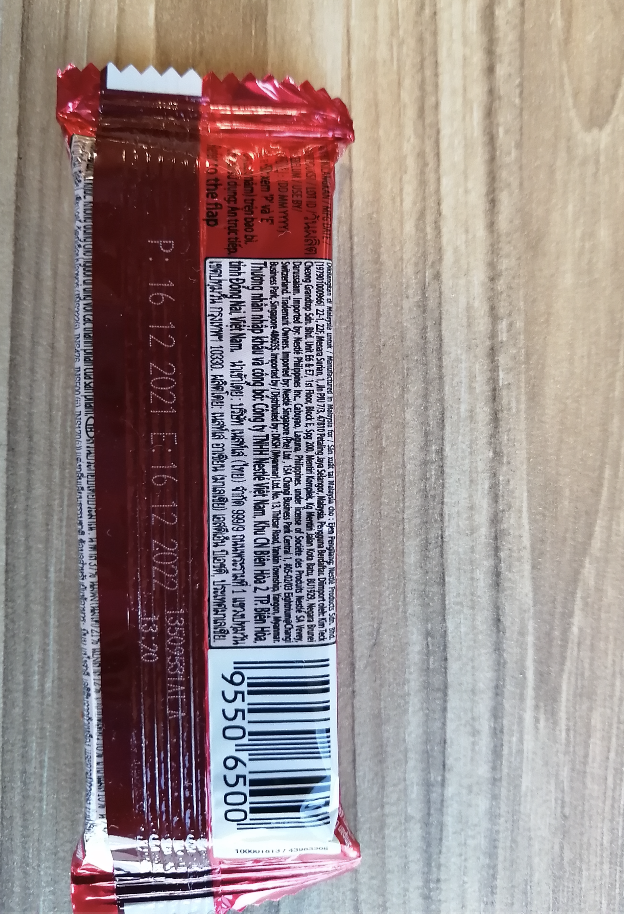Kitkat: (85, 151, 326, 851)
